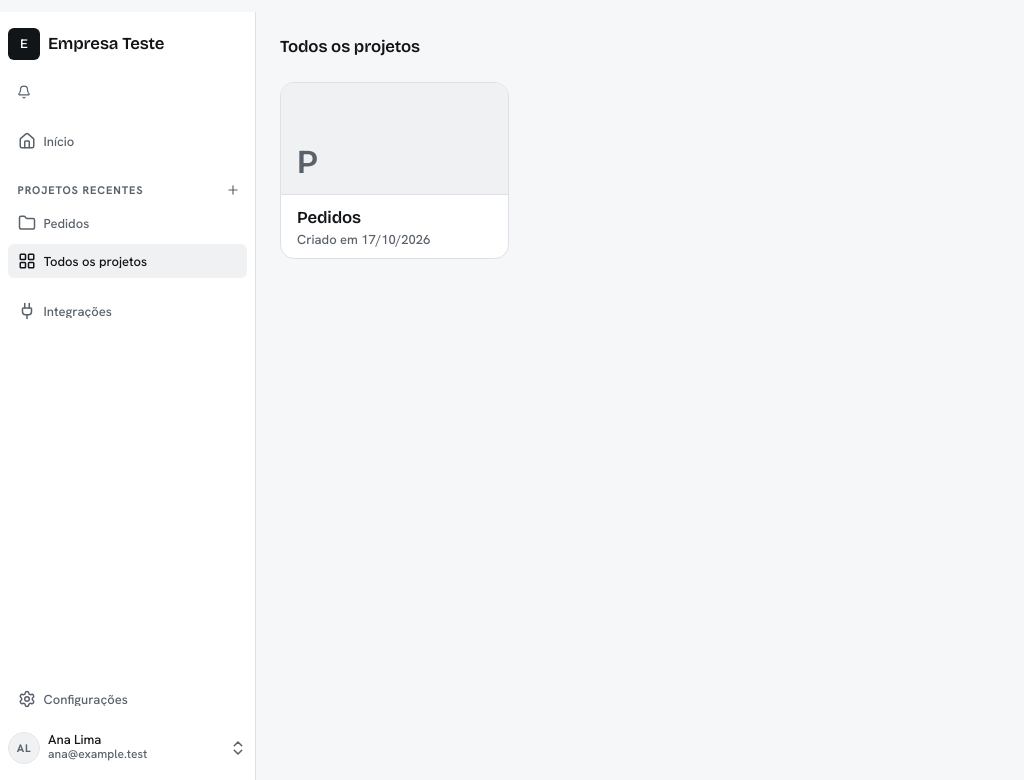
Test case: cada cartão: o nome, "Criado em" e o link para o Projeto
The image size is (1024, 780).
Expected: the heading "Todos os projetos" is shown, [280,36,420,57]
Click the link "P Pedidos Criado em 17/10/2026" at {"x": 395, "y": 170}, box [280,82,509,259]
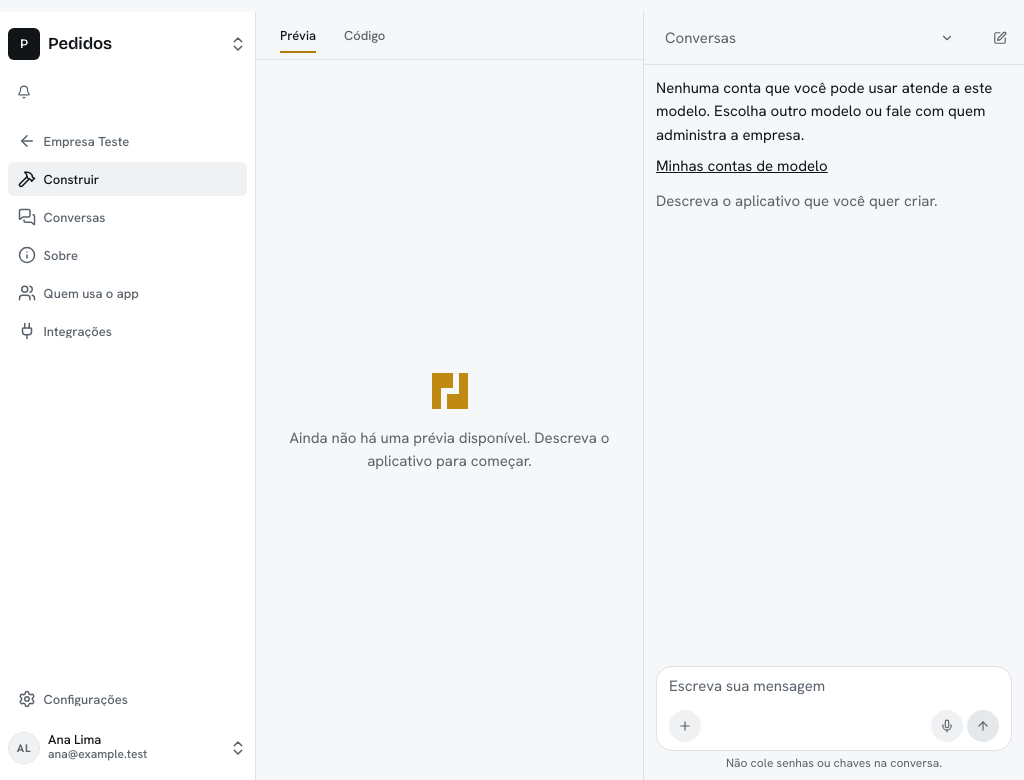
Result: the text "Ainda não há uma prévia disponível" is shown at [290,428,609,471]
